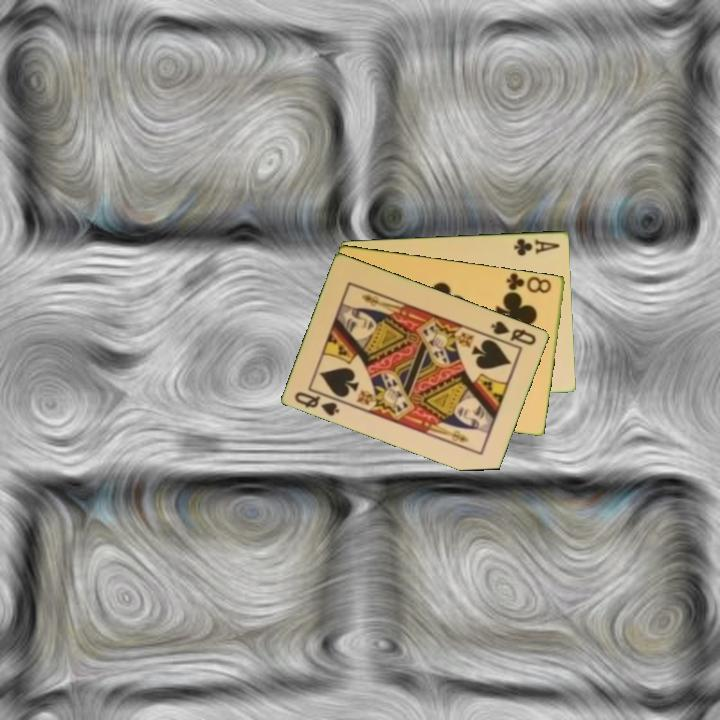8c: (503, 270, 554, 296)
Ac: (510, 235, 562, 258)
Qs: (291, 385, 346, 419), (487, 317, 539, 348)
